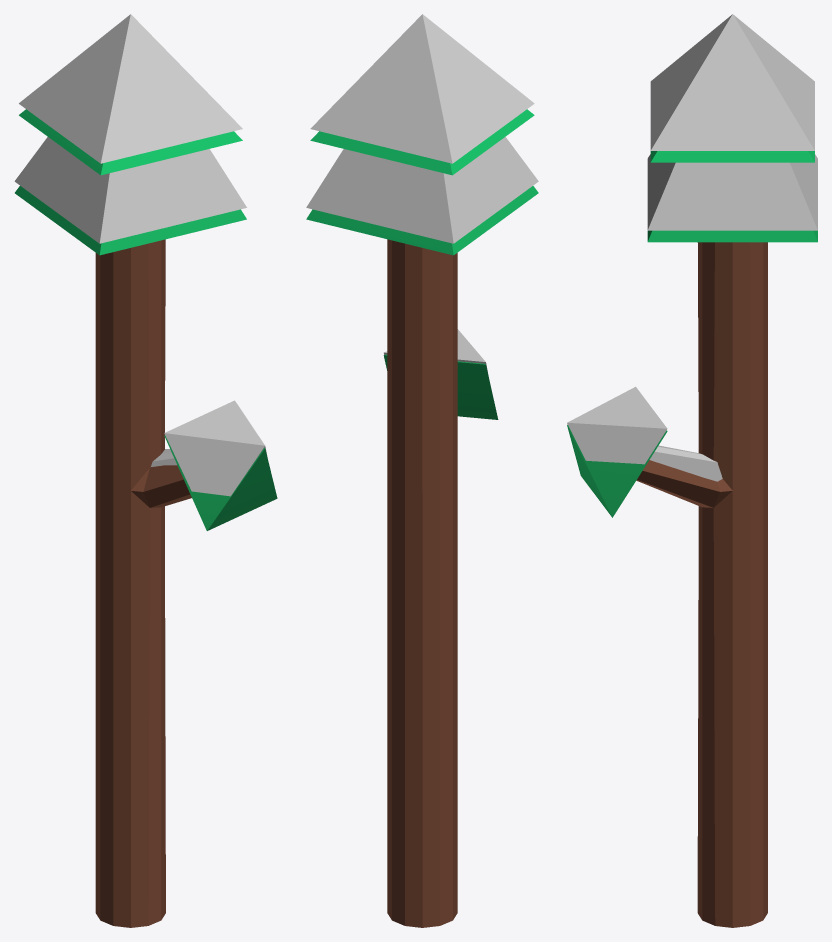
Rendered from Tree_25_winter_gradient_green_vc.fbx.
3 renders of one model, left to right at view 1: azimuth 30°, elevation 25°; view 2: azimuth 150°, elevation 25°; view 3: azimuth 270°, elevation 25°, orthographic.
Visible parts, largest first — view 1: Tree_25_winter_gradient_green_vc; view 2: Tree_25_winter_gradient_green_vc; view 3: Tree_25_winter_gradient_green_vc.
Part boxes in pixels (bbox=[...]): Tree_25_winter_gradient_green_vc: bbox=[14, 14, 277, 927]; Tree_25_winter_gradient_green_vc: bbox=[306, 14, 538, 927]; Tree_25_winter_gradient_green_vc: bbox=[567, 14, 817, 927].
Size of the model in its own units: 58.32 by 312 by 79.03.
